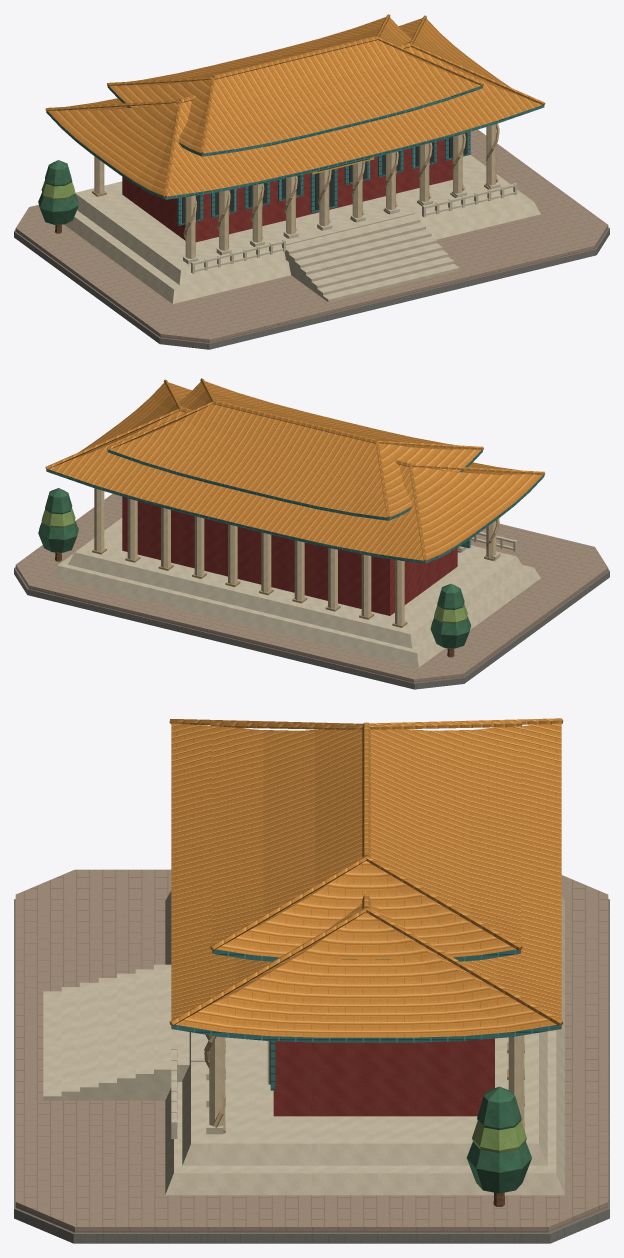
Rendered from qufu.glb.
3 renders of one model, top to bottom at view 1: azimuth 30°, elevation 25°; view 2: azimuth 150°, elevation 25°; view 3: azimuth 270°, elevation 25°, orthographic. The views are drawn at different scales.
Parts seen in each view (by area): view 1: 曲阜孔庙; view 2: 曲阜孔庙; view 3: 曲阜孔庙.
Boxes of the visible parts, <box> form: 曲阜孔庙: <box>14,14,609,349</box>; 曲阜孔庙: <box>14,378,609,689</box>; 曲阜孔庙: <box>14,718,609,1243</box>.
Size of the model in its own units: 12.35 by 4.39 by 8.65.
13 materials, 13 textured.
